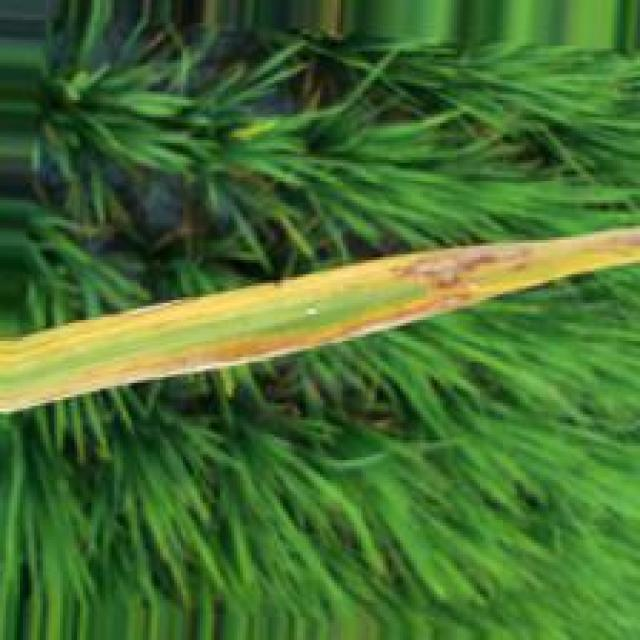Bacterial_Leaf_Blight: (0, 221, 640, 416)
